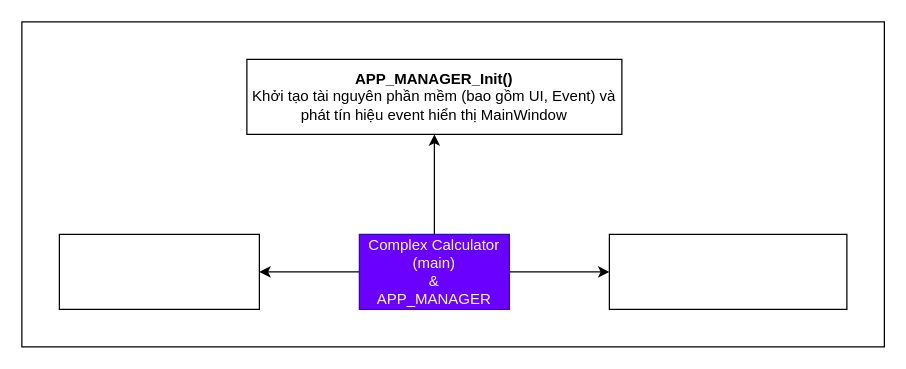
Image size: 906x369. Some labels were removed from this diagram. The shapes that lost their labels are listed below. From the top down, each one's centre as x and y in pixels, then its label:
the point at 158,271: APP_MANAGER_Exit() Giải phóng tài nguyên và thoát ứng dụng
the point at 727,271: APP_MANAGER_Launch() Nhận các tín hiệu và khởi chạy event (sự kiện) tương ứng
